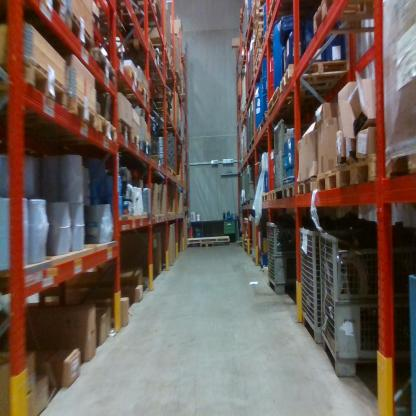pallet: (312, 1, 389, 43), (5, 67, 72, 112), (275, 56, 349, 91), (40, 97, 99, 140), (338, 148, 383, 199), (265, 86, 342, 113), (92, 47, 139, 91), (116, 4, 167, 33), (69, 9, 96, 58), (104, 78, 148, 107), (122, 33, 171, 59), (384, 140, 414, 181), (87, 117, 120, 147), (318, 162, 343, 196), (43, 2, 70, 26), (189, 232, 233, 246), (113, 118, 130, 144), (137, 132, 153, 159), (249, 55, 266, 79), (146, 100, 174, 114), (128, 128, 142, 155), (254, 35, 277, 51), (150, 152, 163, 167), (260, 189, 270, 206), (251, 6, 266, 15), (256, 29, 268, 39), (200, 241, 214, 249), (165, 162, 172, 174), (174, 172, 178, 178)
stillage: (320, 225, 415, 386), (299, 220, 351, 349), (271, 115, 319, 202), (267, 218, 304, 294), (247, 49, 252, 98), (243, 3, 249, 41), (251, 37, 255, 89), (251, 95, 255, 146), (248, 106, 252, 151), (246, 110, 248, 155)
